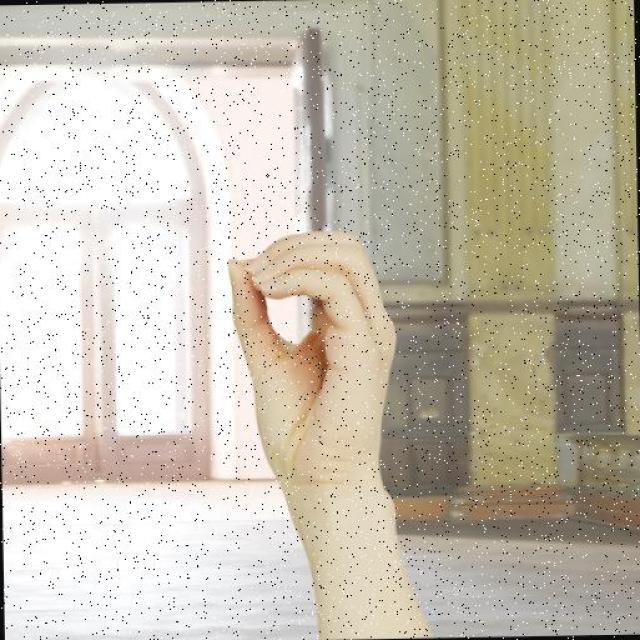O: (221, 226, 400, 492)
